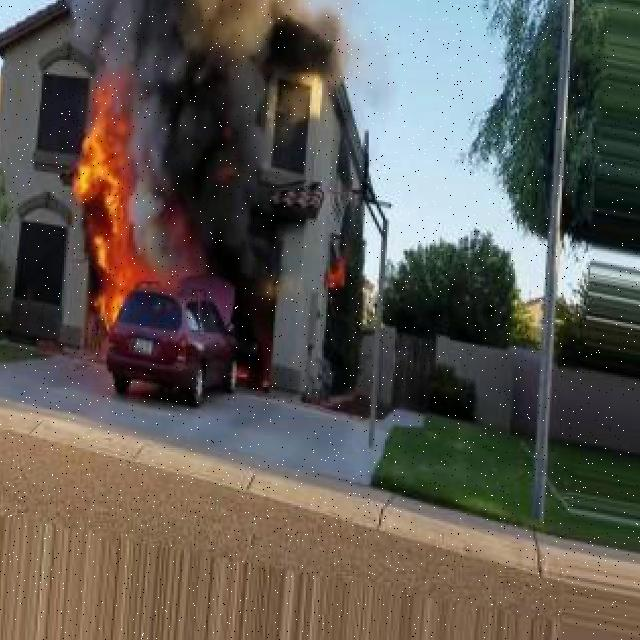fire: (74, 93, 127, 334)
smoke: (60, 0, 127, 88)
